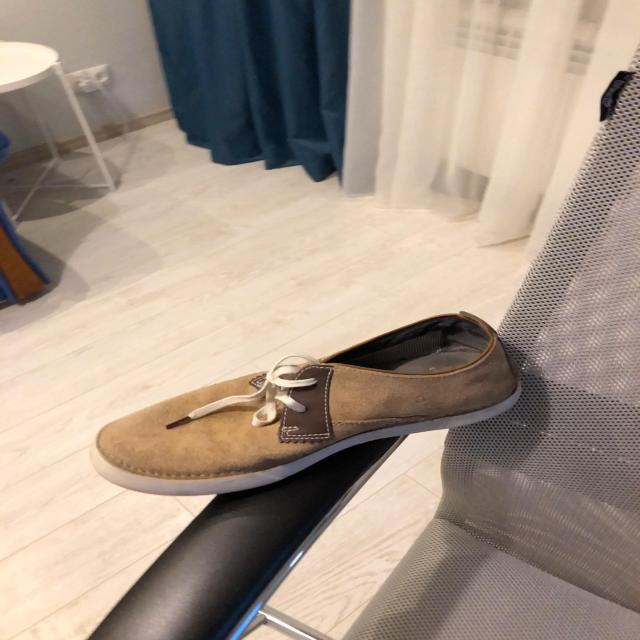shoe: (92, 313, 521, 499)
